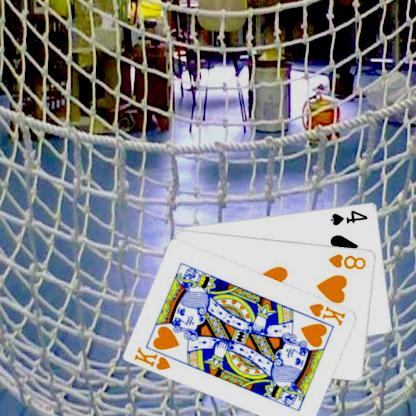4S: (328, 208, 369, 226)
8H: (326, 251, 367, 271)
KH: (306, 300, 347, 327), (132, 344, 172, 371)
